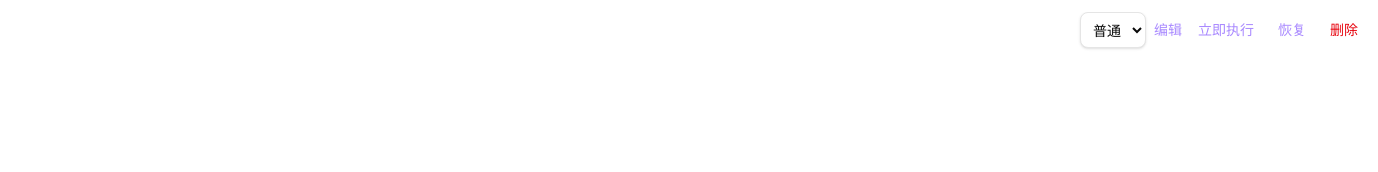
Test: 任务管理 › 支持立即执行操作
Click the button "立即执行" at x=1226, y=30, box 1190,20 -> 1262,40
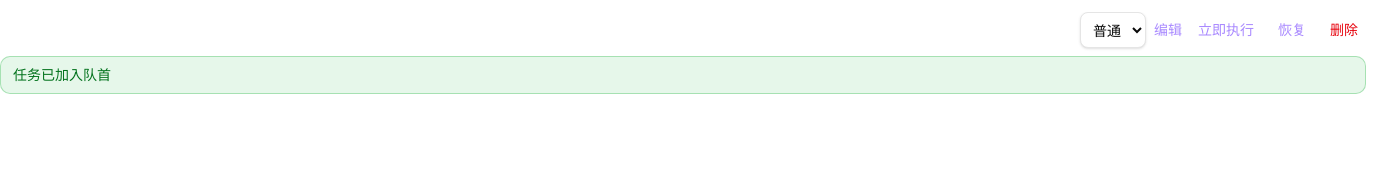
Now the text "任务已加入队首" is shown, box 13,65 -> 111,84
